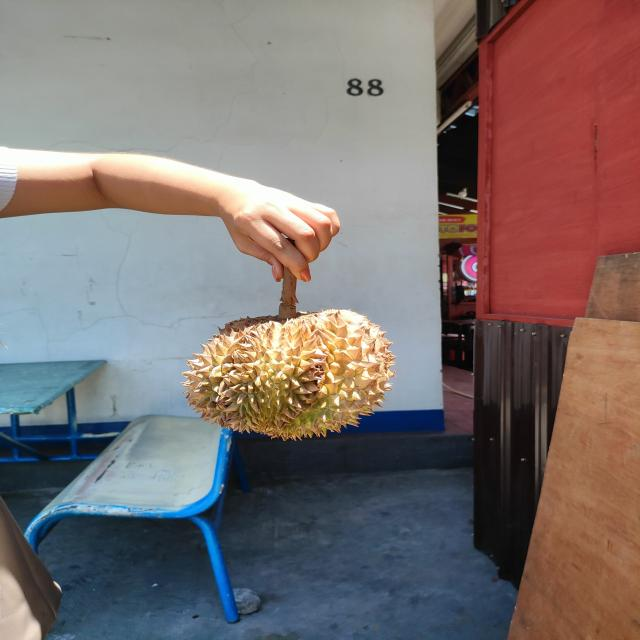mature: (178, 308, 397, 442)
